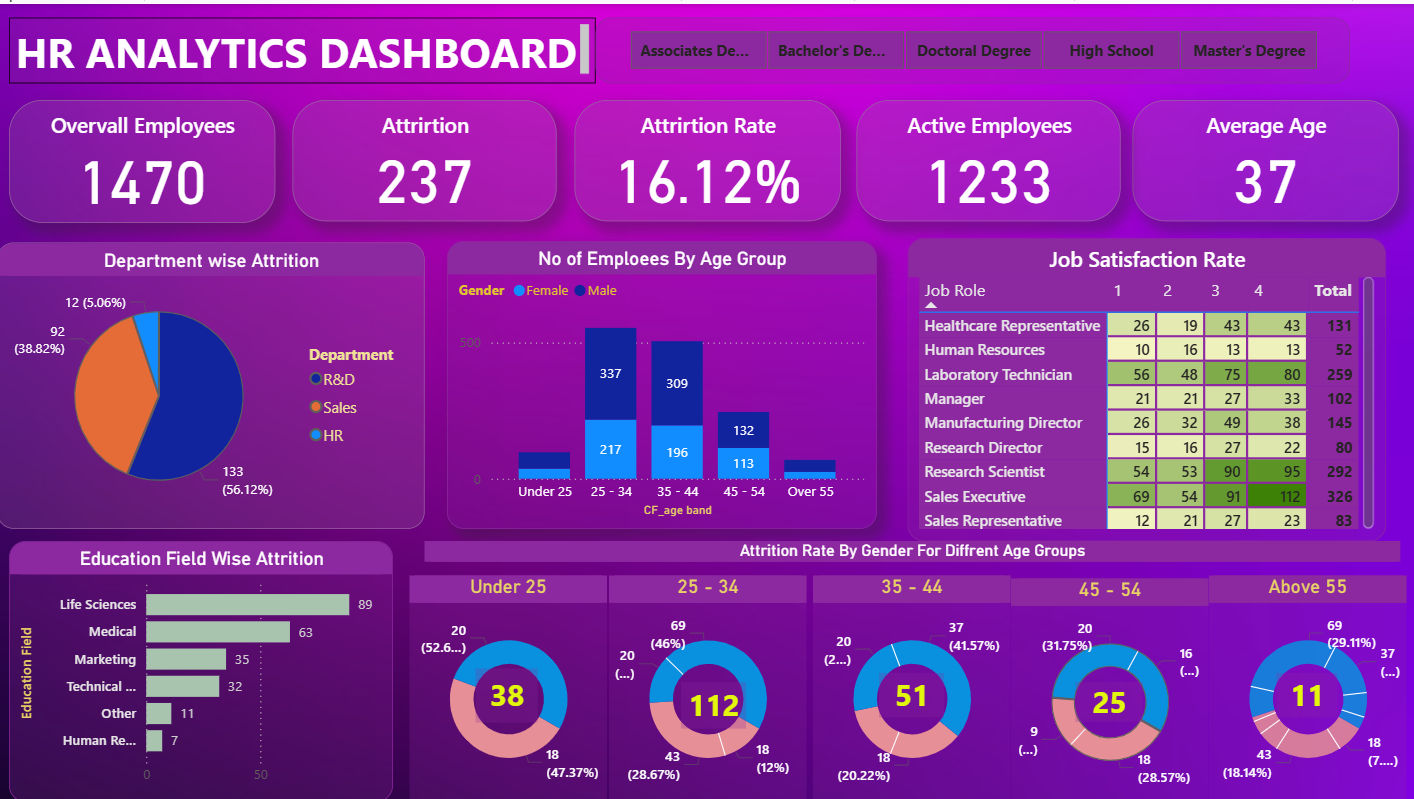

The page's visual inventory and layout, read from the dashboard file:
{"tool":"powerbi","page":{"name":"Page 1","canvas":[1280,720],"ordinal":0},"visuals":[{"type":"card","title":"Overvall Employees","fields":{"Values":["Sum(HR data.Employee Count)"]},"box":[10.6,86.5,239.8,110.8],"z":0},{"type":"card","title":"Attrirtion","fields":{"Values":["Sum(HR data.Attrition count)"]},"box":[265.6,86.5,238.3,109.3],"z":1000},{"type":"card","title":"Attrirtion Rate","fields":{"Values":["HR data.Attration Rate"]},"box":[520.6,86.5,239.8,109.3],"z":2000},{"type":"card","title":"Average Age","fields":{"Values":["Avg(HR data.Age)"]},"box":[1023,86.5,239.8,109.3],"z":3000},{"type":"card","title":"Active Employees","fields":{"Values":["HR data.Active Employees"]},"box":[774.1,86.5,238.3,109.3],"z":4000},{"type":"pieChart","title":"Department wise Attrition","fields":{"Category":["HR data.Department"],"Y":["Sum(HR data.Attrition count)"]},"box":[0,215.5,385.5,258],"z":5000},{"type":"columnChart","title":"No of Emploees By Age Group","fields":{"Category":["HR data.CF_age band"],"Y":["Sum(HR data.Employee Count)"],"Series":["HR data.Gender"]},"box":[405.3,214,387,259.5],"z":6000},{"type":"pivotTable","title":"Job Satisfaction Rate","fields":{"Rows":["HR data.Job Role"],"Columns":["HR data.Job Satisfaction"],"Values":["Sum(HR data.Employee Count)"]},"box":[821.1,211,431.1,273.2],"z":7000},{"type":"barChart","title":"Education Field Wise Attrition","fields":{"Category":["HR data.Education Field"],"Y":["Sum(HR data.Attrition count)"]},"box":[10.6,484.2,346.1,235.3],"z":8000},{"type":"donutChart","title":"Under 25","fields":{"Category":["HR data.Gender"],"Y":["Sum(HR data.Attrition count)"],"Series":["HR data.CF_age band"]},"box":[371.5,515.5,178.2,202.8],"z":9000},{"type":"textbox","title":"Attrition Rate By Gender For Diffrent Age Groups","box":[384.8,483.3,879.5,19],"z":10000},{"type":"donutChart","title":"25 - 34","fields":{"Category":["HR data.Gender"],"Y":["Sum(HR data.Attrition count)"],"Series":["HR data.CF_age band"]},"box":[551.6,515.5,178.2,202.8],"z":11000},{"type":"donutChart","title":"35 - 44","fields":{"Category":["HR data.Gender"],"Y":["Sum(HR data.Attrition count)"],"Series":["HR data.CF_age band"]},"box":[735.4,515.5,178.2,202.8],"z":12000},{"type":"donutChart","title":"45 - 54","fields":{"Category":["HR data.Gender"],"Y":["Sum(HR data.Attrition count)"],"Series":["HR data.CF_age band"]},"box":[913.6,517.4,178.2,202.8],"z":13000},{"type":"donutChart","title":"Above 55","fields":{"Category":["HR data.Gender"],"Y":["Sum(HR data.Attrition count)"],"Series":["HR data.CF_age band"]},"box":[1091.7,515.5,178.2,202.8],"z":14000},{"type":"card","fields":{"Values":["Sum(HR data.Attrition count)"]},"box":[431.6,598.7,56.2,48.6],"z":15000},{"type":"card","fields":{"Values":["Sum(HR data.Attrition count)"]},"box":[616,610.3,58.8,41.7],"z":16000},{"type":"card","fields":{"Values":["Sum(HR data.Attrition count)"]},"box":[794.2,602.7,58.8,39.8],"z":17000},{"type":"card","fields":{"Values":["Sum(HR data.Attrition count)"]},"box":[972.3,610.3,60.7,36],"z":18000},{"type":"card","fields":{"Values":["Sum(HR data.Attrition count)"]},"box":[1152.4,602.7,55,39.8],"z":19000},{"type":"textbox","box":[10.6,12.2,510.6,59.3],"z":20000},{"type":"slicer","fields":{"Values":["HR data.Education"]},"box":[539.3,12.2,679.9,59.5],"z":21000}]}

Visuals, with their boxes in screenshot pixels (x1, y1, x2, y2), scaled from the page's 1280x720 canvas onto the 1414x799 screenshot:
"Overvall Employees" card: bbox=(12, 96, 277, 219)
"Attrirtion" card: bbox=(293, 96, 557, 217)
"Attrirtion Rate" card: bbox=(575, 96, 840, 217)
"Average Age" card: bbox=(1130, 96, 1395, 217)
"Active Employees" card: bbox=(855, 96, 1118, 217)
"Department wise Attrition" pieChart: bbox=(0, 239, 426, 525)
"No of Emploees By Age Group" columnChart: bbox=(448, 237, 875, 525)
"Job Satisfaction Rate" pivotTable: bbox=(907, 234, 1383, 537)
"Education Field Wise Attrition" barChart: bbox=(12, 537, 394, 798)
"Under 25" donutChart: bbox=(410, 572, 607, 797)
"Attrition Rate By Gender For Diffrent Age Groups" textbox: bbox=(425, 536, 1397, 557)
"25 - 34" donutChart: bbox=(609, 572, 806, 797)
"35 - 44" donutChart: bbox=(812, 572, 1009, 797)
"45 - 54" donutChart: bbox=(1009, 574, 1206, 798)
"Above 55" donutChart: bbox=(1206, 572, 1403, 797)
card - Sum(HR data.Attrition count): bbox=(477, 664, 539, 718)
card - Sum(HR data.Attrition count): bbox=(680, 677, 745, 724)
card - Sum(HR data.Attrition count): bbox=(877, 669, 942, 713)
card - Sum(HR data.Attrition count): bbox=(1074, 677, 1141, 717)
card - Sum(HR data.Attrition count): bbox=(1273, 669, 1334, 713)
textbox: bbox=(12, 14, 576, 79)
slicer - HR data.Education: bbox=(596, 14, 1347, 80)
